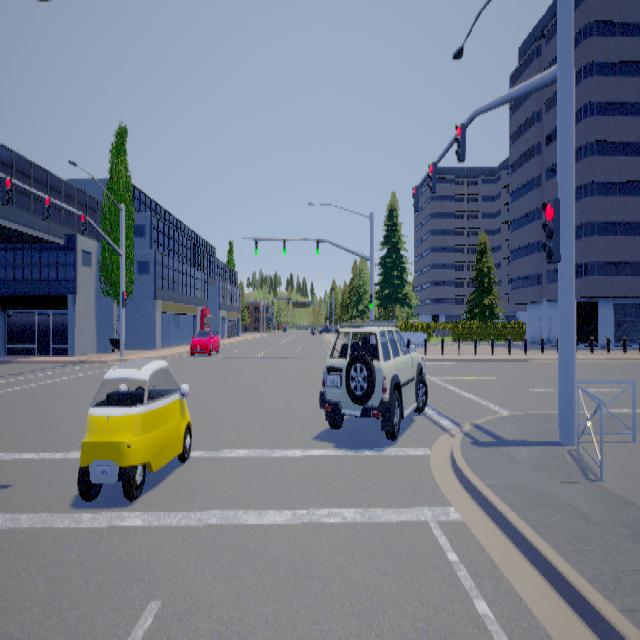green_light: (316, 239, 320, 254), (283, 238, 286, 254), (255, 239, 258, 254), (370, 292, 372, 308)
red_light: (541, 197, 560, 263), (454, 121, 465, 162), (1, 175, 11, 204), (426, 160, 435, 192), (41, 195, 50, 219), (411, 183, 418, 210), (78, 212, 85, 234), (121, 290, 127, 306)
vehicle: (76, 357, 191, 500), (318, 318, 427, 440), (189, 327, 219, 355)
